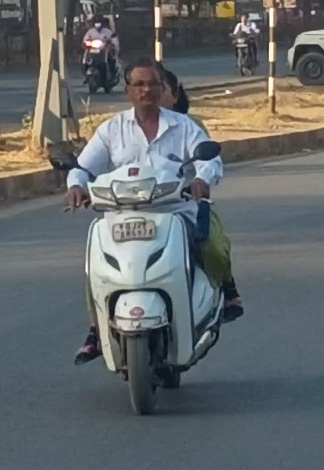BikeWithRider: (46, 54, 249, 420), (77, 10, 122, 99), (227, 10, 266, 80)
NoHelmet: (119, 54, 171, 115)
